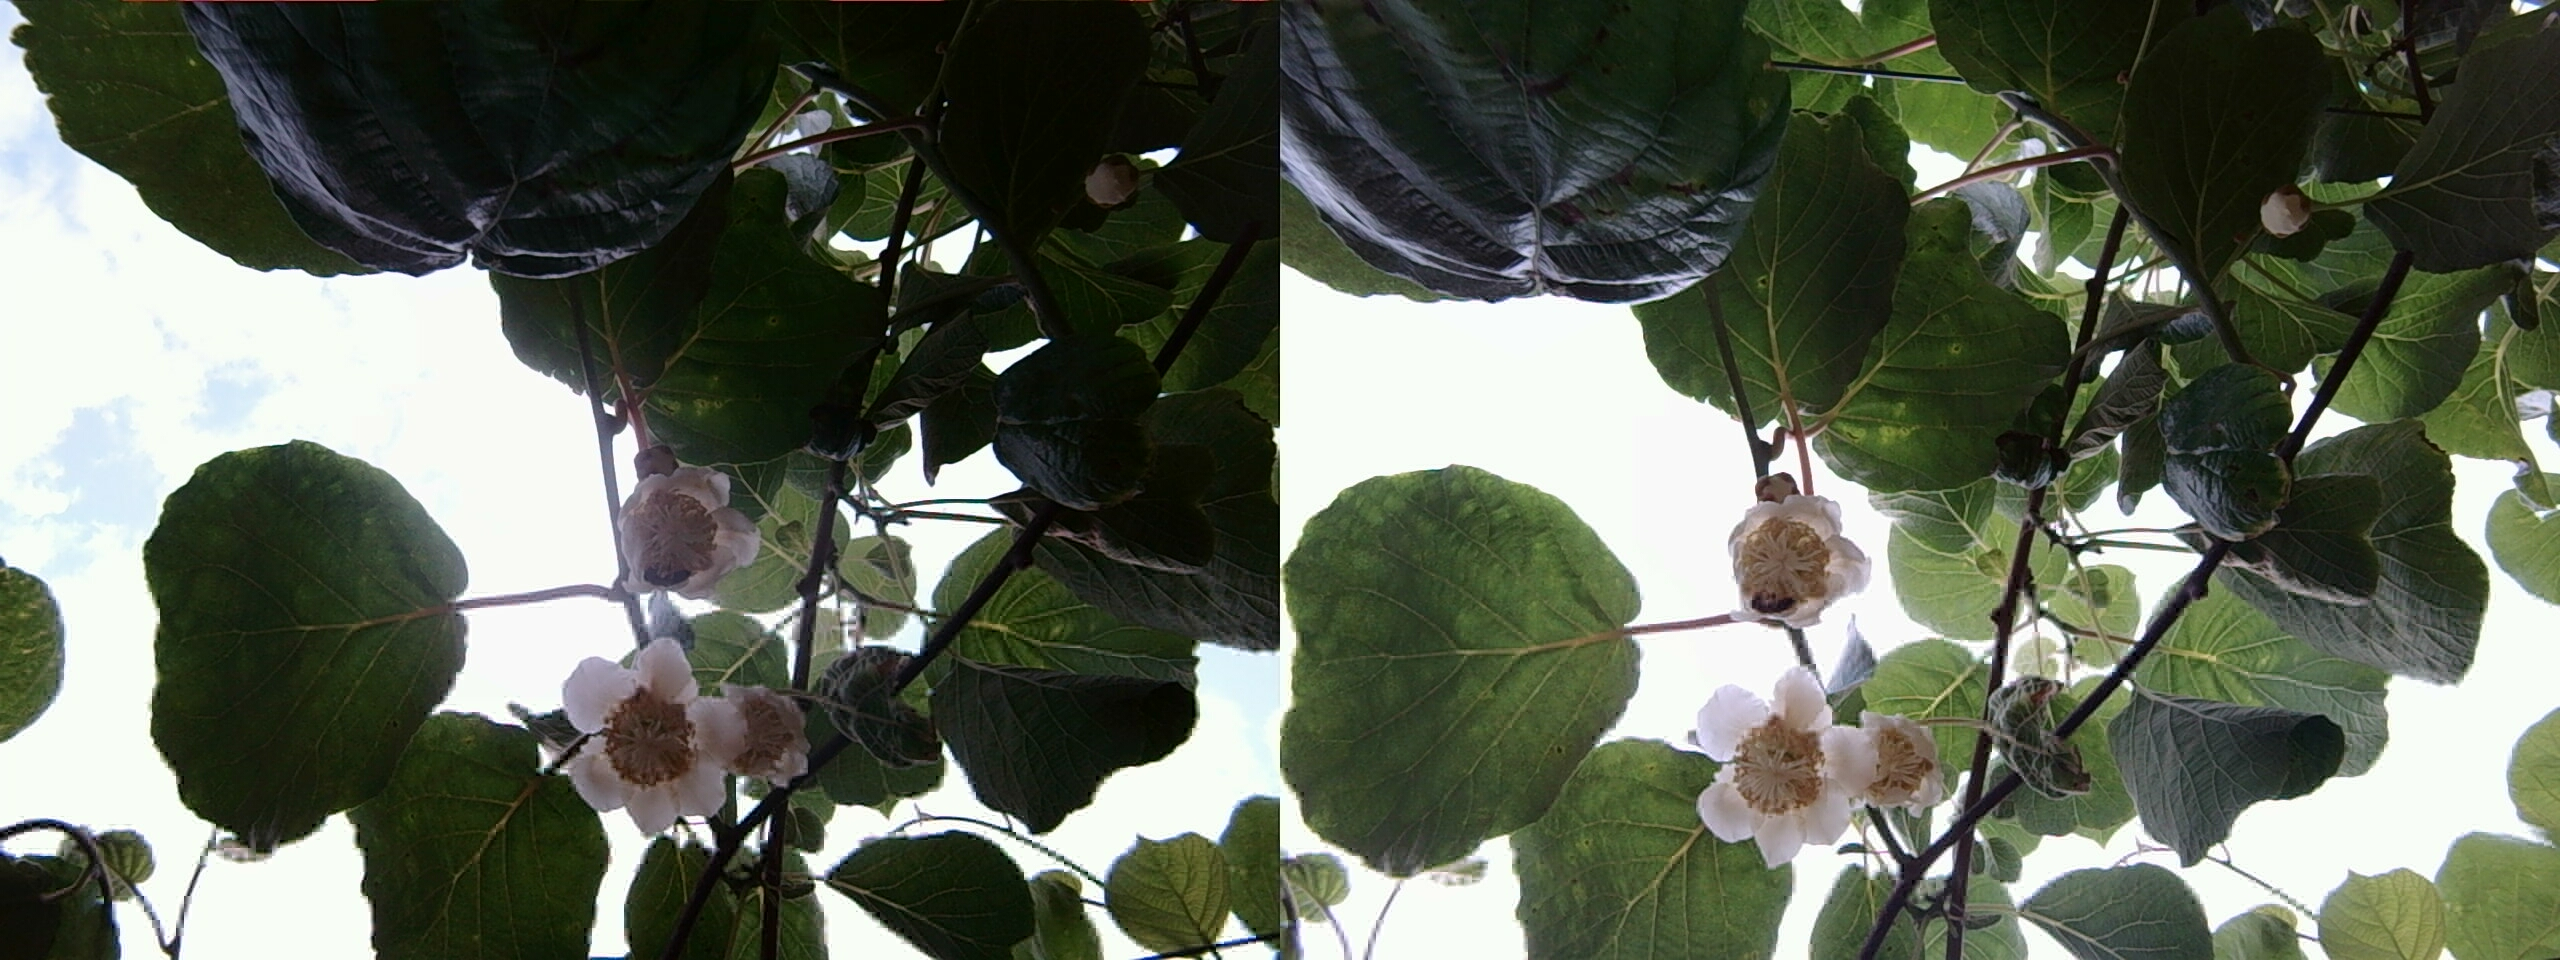flower: (526, 630, 790, 834), (1673, 669, 1928, 864), (609, 447, 761, 598), (1722, 480, 1869, 625)
